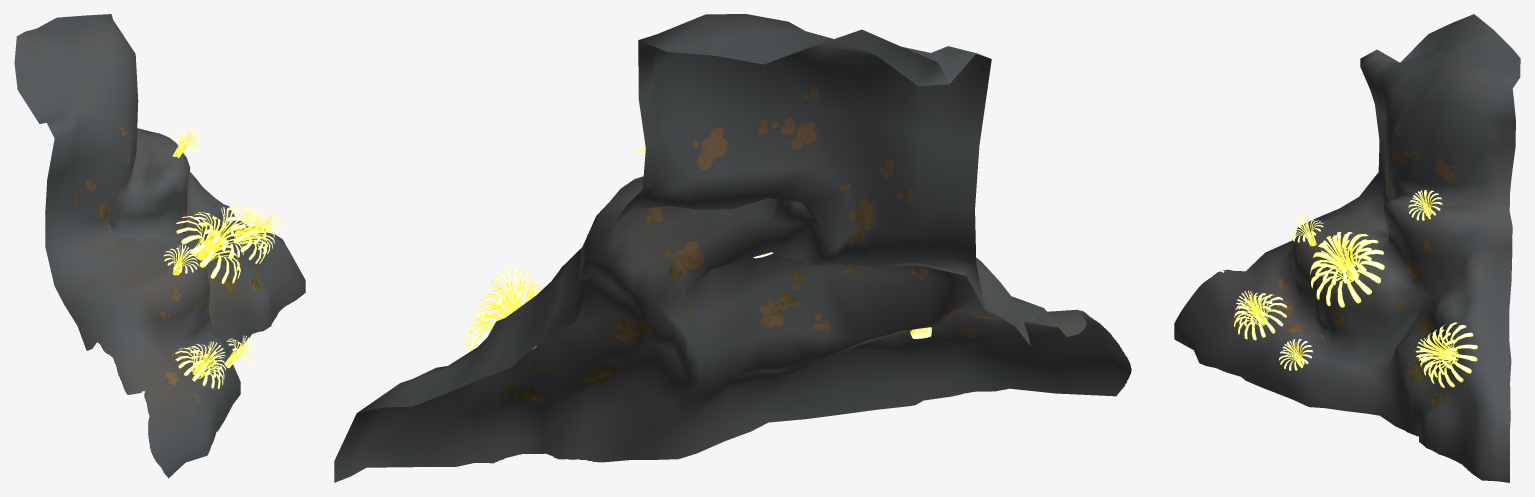
Rendered from CornerRock.fbx.
The picture shows the model from 3 angles, left to right: view 1: azimuth 30°, elevation 25°; view 2: azimuth 150°, elevation 25°; view 3: azimuth 270°, elevation 25°; orthographic projection. The views are drawn at different scales.
Visible parts, largest first — view 1: Circle.004; view 2: Circle.004; view 3: Circle.004.
Part boxes in pixels (box(x1,y1,x2,y2)): Circle.004: box(14, 14, 305, 478); Circle.004: box(334, 14, 1131, 482); Circle.004: box(1174, 14, 1520, 482).
Bounding box in the file's own units: 663 × 655 × 630.
